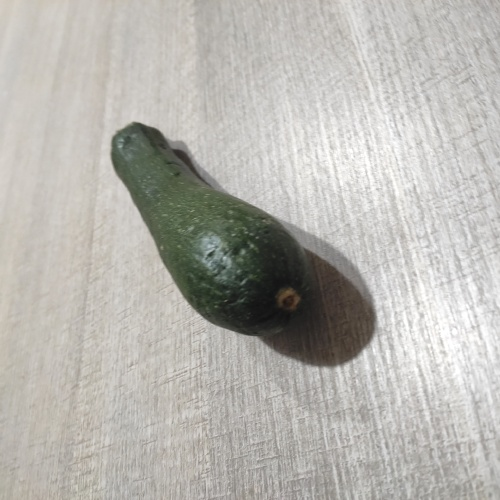zucchine: (109, 125, 326, 341)
